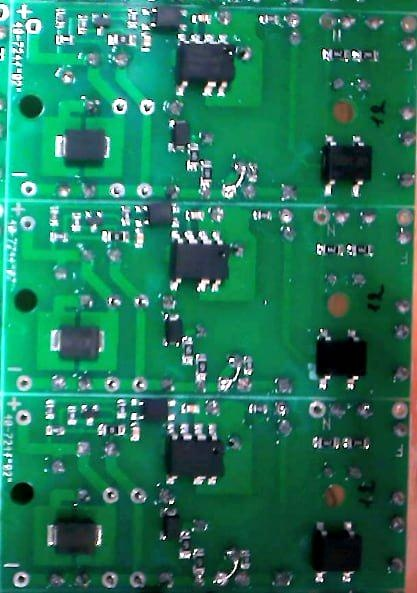chip-capacitor: (190, 12, 212, 25), (184, 209, 205, 222), (129, 421, 142, 442), (140, 31, 152, 53), (180, 402, 201, 414), (134, 227, 144, 249)
chip-resistor: (106, 32, 138, 48), (320, 46, 350, 63), (199, 160, 214, 191), (96, 422, 126, 437), (311, 435, 341, 450), (178, 530, 193, 560), (352, 47, 380, 63), (347, 242, 375, 258), (101, 229, 130, 244), (194, 353, 209, 382), (314, 242, 345, 256), (181, 335, 194, 367), (186, 142, 200, 171), (342, 436, 371, 450), (192, 547, 206, 575), (257, 12, 281, 27), (250, 209, 274, 222), (48, 230, 70, 244), (54, 6, 67, 29), (76, 13, 89, 36), (119, 204, 132, 227), (54, 33, 76, 46), (43, 398, 56, 420), (115, 398, 128, 420), (247, 402, 269, 415), (127, 7, 139, 30), (243, 354, 255, 377), (44, 424, 65, 437), (48, 205, 60, 227), (66, 404, 78, 426), (248, 161, 259, 183), (71, 211, 82, 233), (240, 550, 252, 570)
diode: (53, 129, 112, 166), (45, 519, 104, 554), (50, 324, 106, 360), (167, 118, 190, 154), (162, 312, 182, 349), (160, 508, 181, 542)
ic: (173, 32, 236, 98), (167, 229, 230, 294), (164, 422, 226, 487), (319, 132, 373, 200), (313, 327, 368, 393), (310, 520, 363, 584), (140, 6, 189, 33), (134, 202, 181, 228), (129, 397, 177, 422)
transistor: (90, 11, 111, 37), (80, 402, 101, 427), (84, 209, 104, 234)
